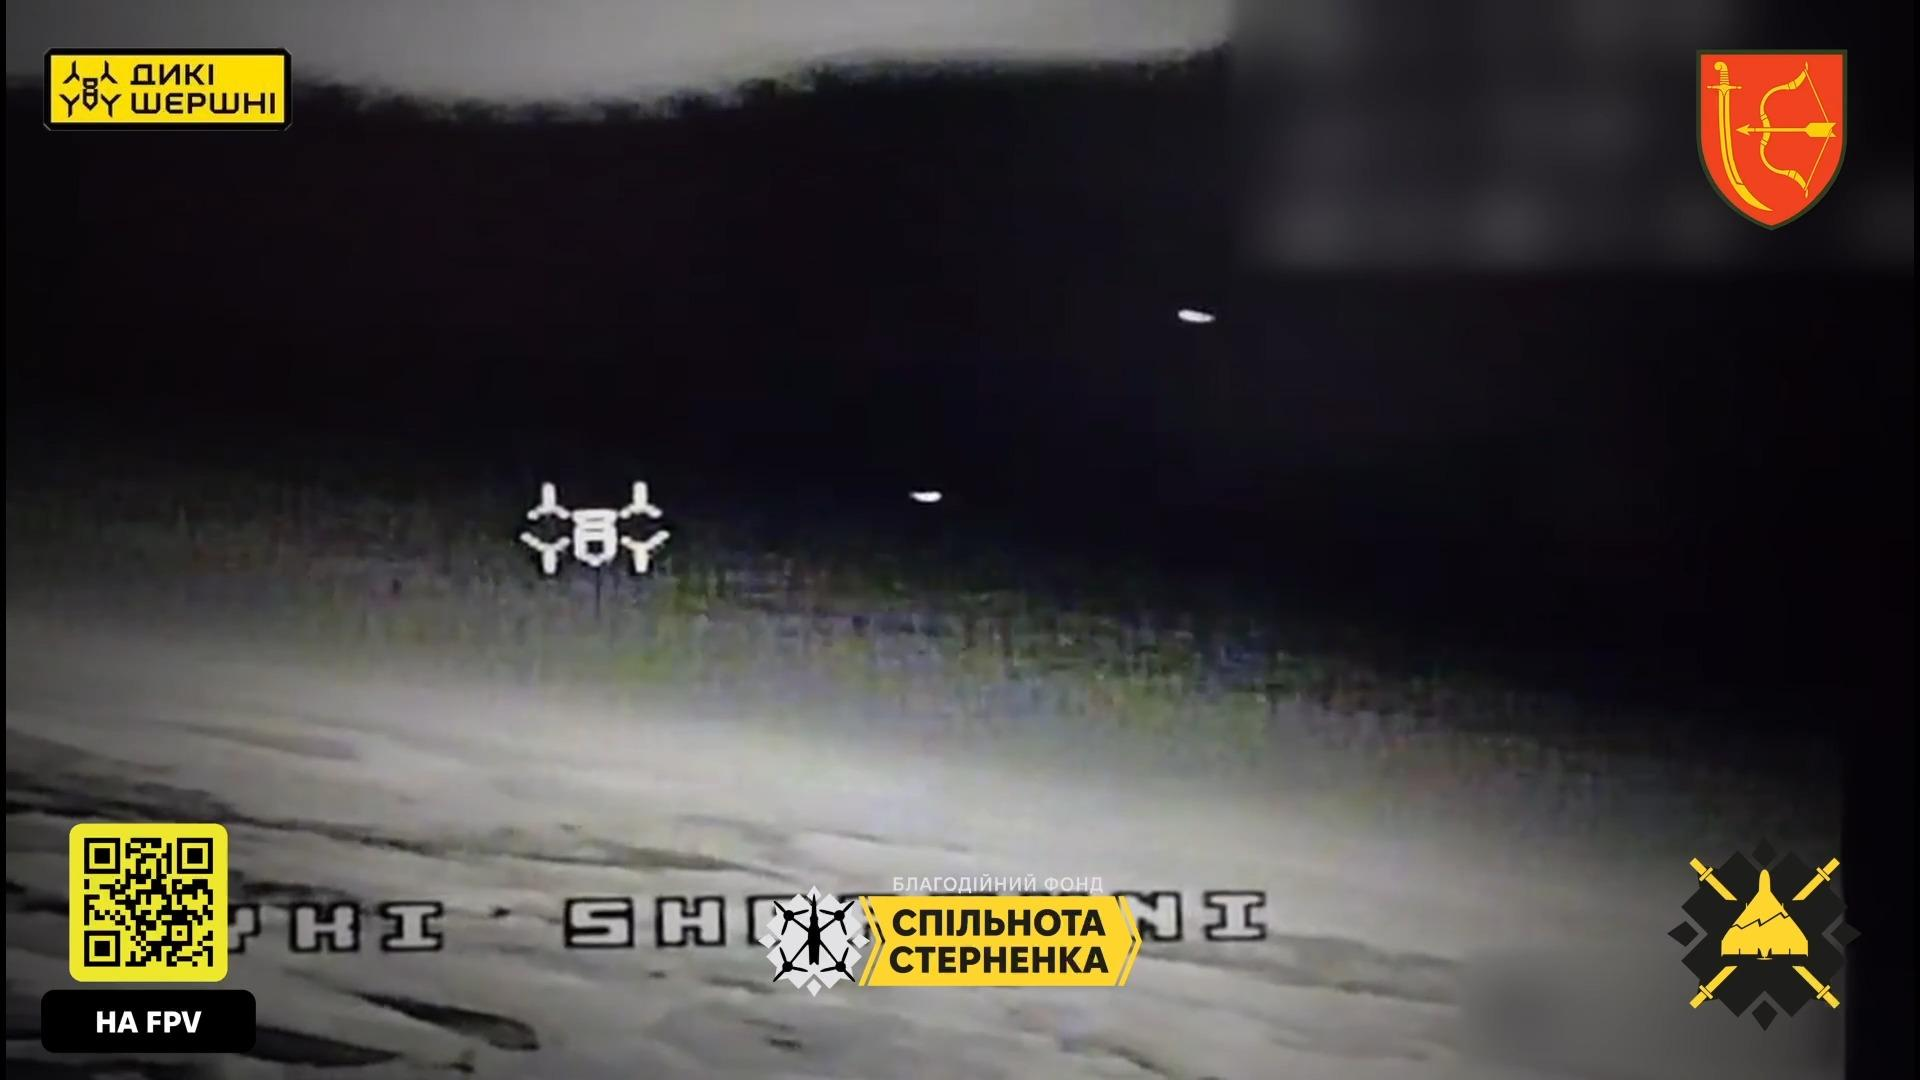Gerbera: (1178, 307, 1215, 324), (910, 489, 943, 504)
